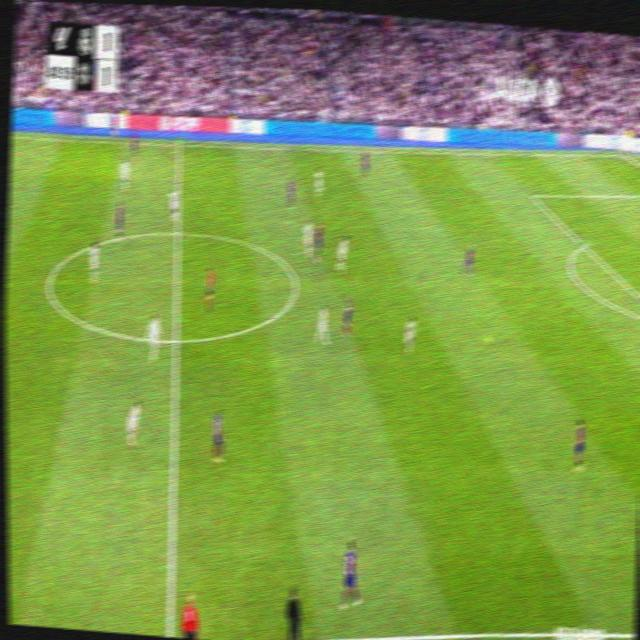bigarea_top_inner: (527, 189, 537, 203)
corner: (618, 151, 628, 160)
halfcircle_bottom: (168, 324, 184, 354)
halfcircle_top: (170, 220, 185, 244)
midline_top_intersection: (174, 137, 183, 151)
top_arc_area_intersection: (578, 237, 589, 253)
